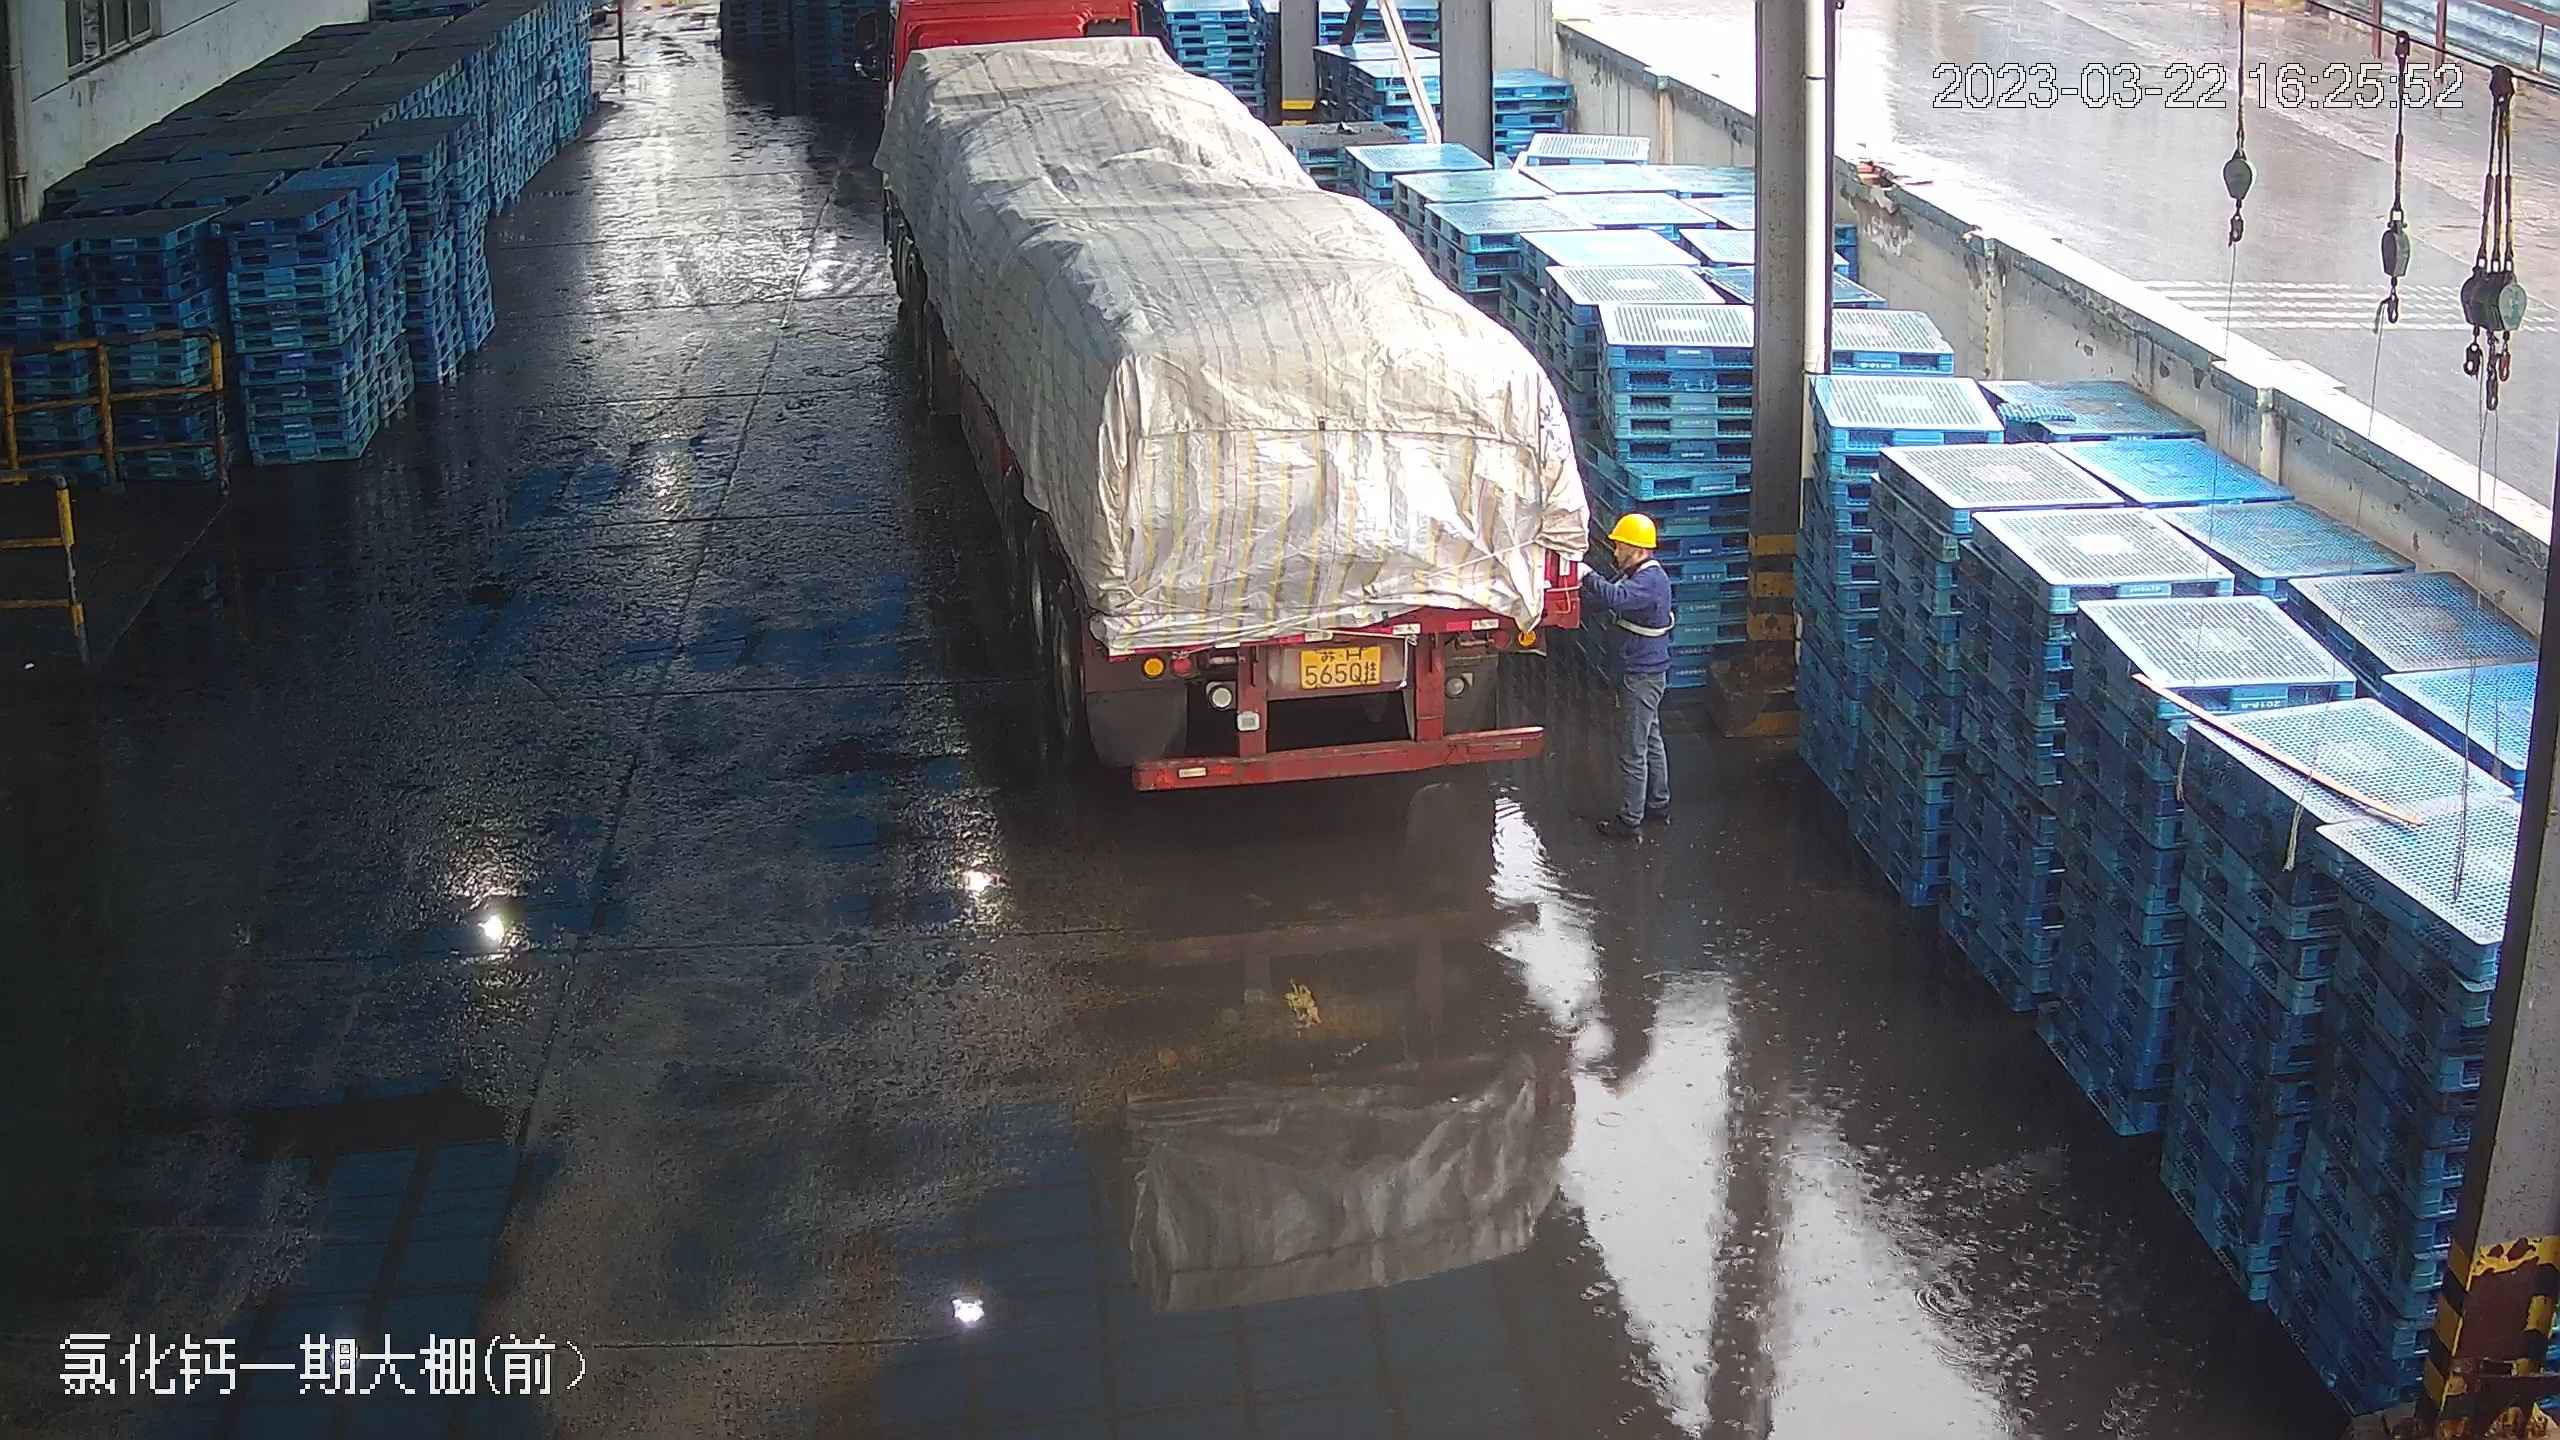belt: (1610, 568, 1675, 637)
head: (1580, 509, 1669, 611)
helmet: (1604, 509, 1659, 548)
people: (1577, 509, 1676, 840)
truck: (857, 10, 1605, 811)
